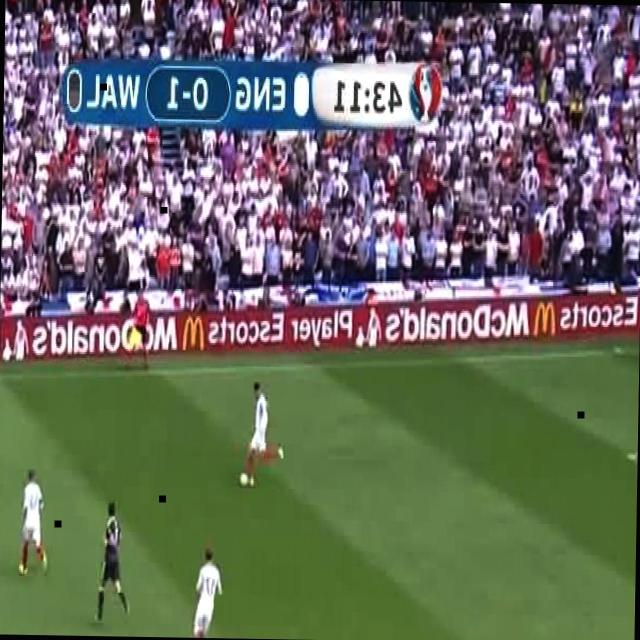ball: (240, 471, 248, 487)
player-white: (244, 381, 287, 487), (94, 501, 130, 623), (18, 471, 48, 576), (189, 548, 223, 638), (128, 288, 150, 370)
